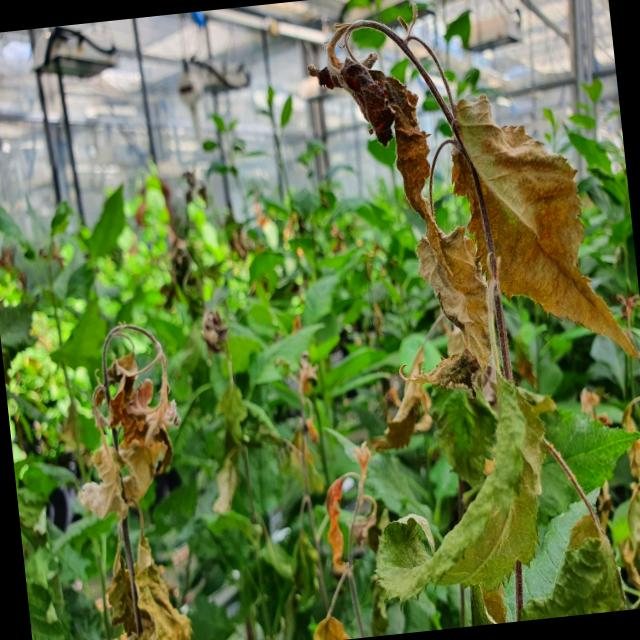-FireBlight-: (308, 49, 639, 448), (74, 323, 195, 640), (319, 477, 357, 574)
